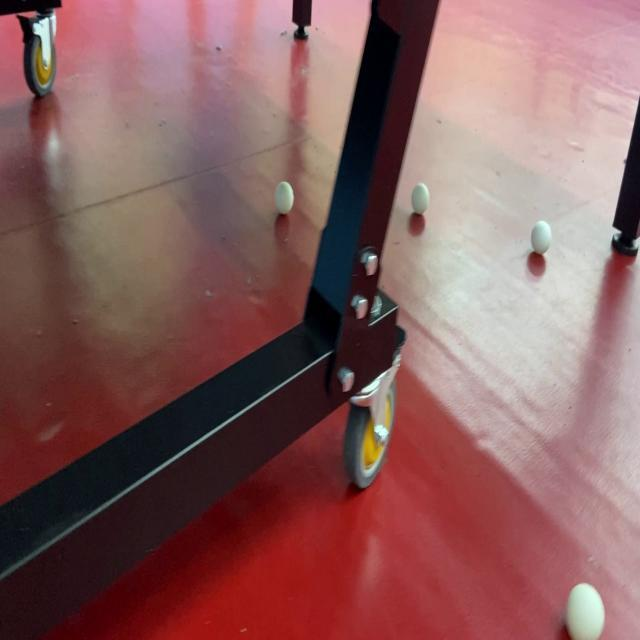ping-pong-ball: (563, 581, 606, 640), (530, 219, 553, 256), (274, 180, 294, 216), (411, 181, 430, 216)
